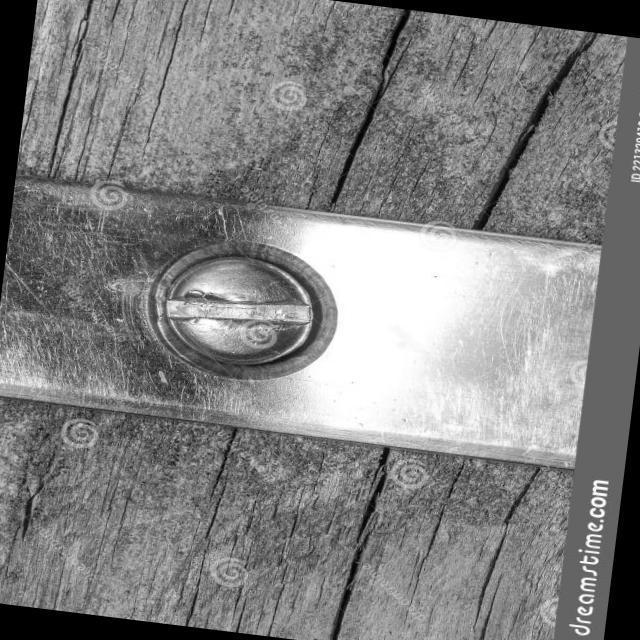Slotted: (137, 238, 360, 388)
